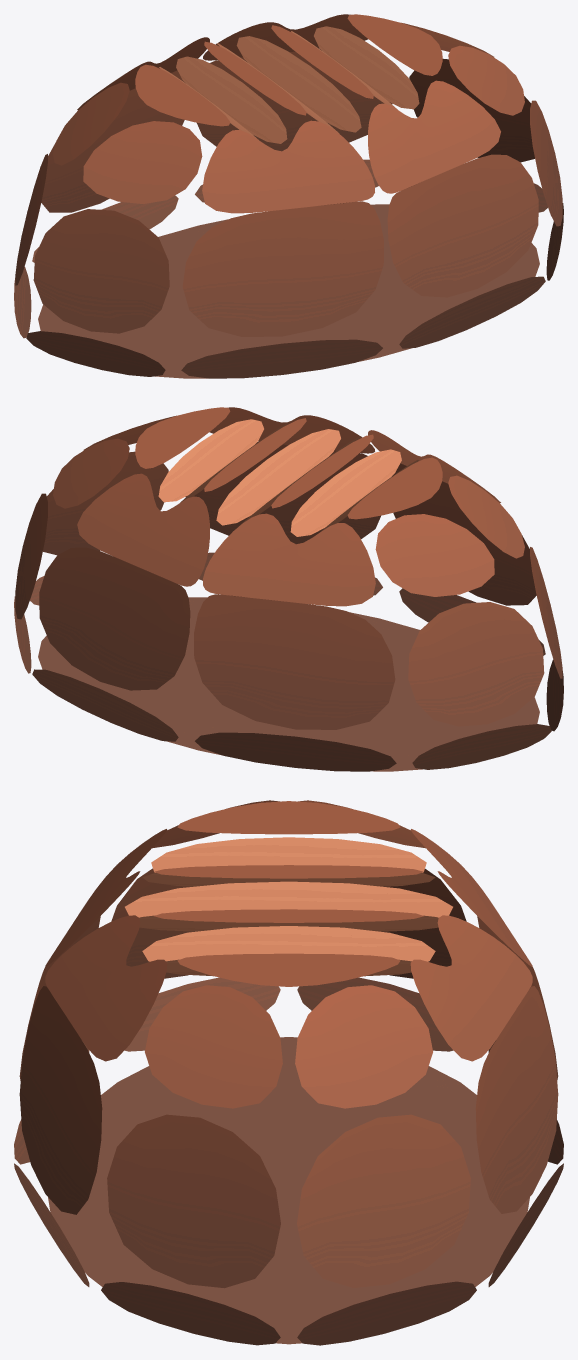
File: loaf-round.glb
The picture shows the model from 3 angles, top to bottom: view 1: azimuth 30°, elevation 25°; view 2: azimuth 150°, elevation 25°; view 3: azimuth 270°, elevation 25°; orthographic projection. The views are drawn at different scales.
Visible parts, largest first — view 1: loaf-round; view 2: loaf-round; view 3: loaf-round.
Boxes of the visible parts, <box> form: loaf-round: <box>14,14,563,378</box>; loaf-round: <box>14,407,563,771</box>; loaf-round: <box>14,800,563,1345</box>.
Bounding box in the file's own units: 0.7392 × 0.2932 × 0.4928.
Materials: 1 (1 with a texture image).
